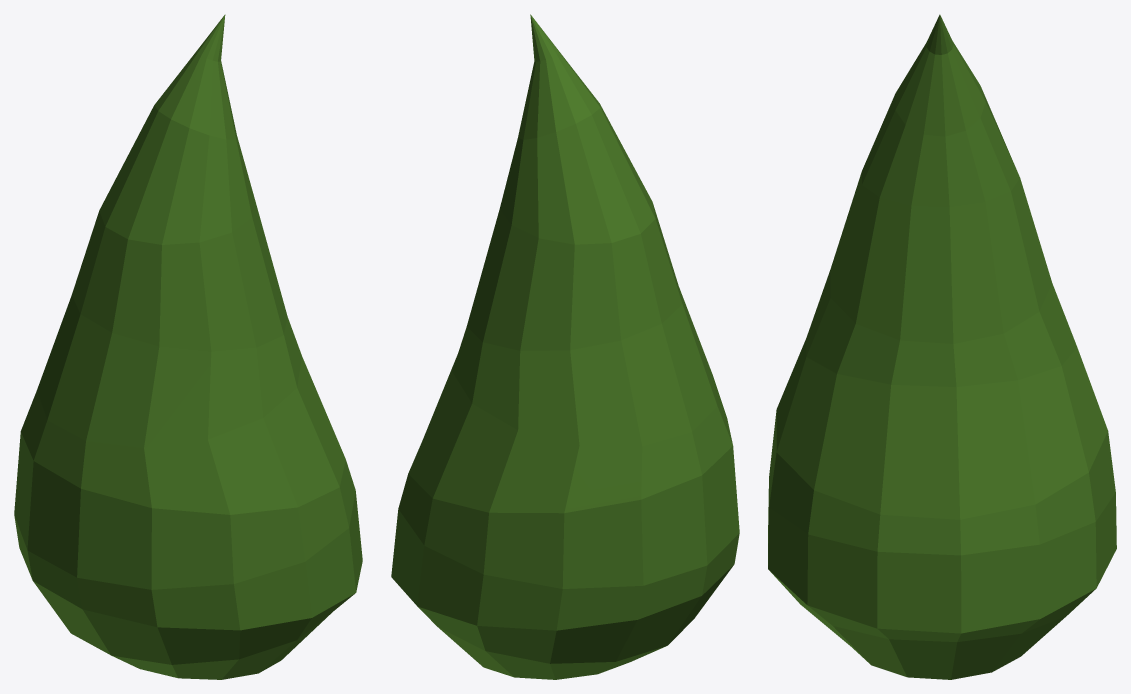
The model's file is cypress.glb.
3 renders of one model, left to right at view 1: azimuth 30°, elevation 25°; view 2: azimuth 150°, elevation 25°; view 3: azimuth 270°, elevation 25°, orthographic. The views are drawn at different scales.
Visible parts, largest first — view 1: model; view 2: model; view 3: model.
Part boxes in pixels (box(x1,y1,x2,y2)): model: box(14, 14, 362, 679); model: box(391, 14, 739, 679); model: box(768, 14, 1116, 679).
Bounding box in the file's own units: 442 × 877 × 432.
